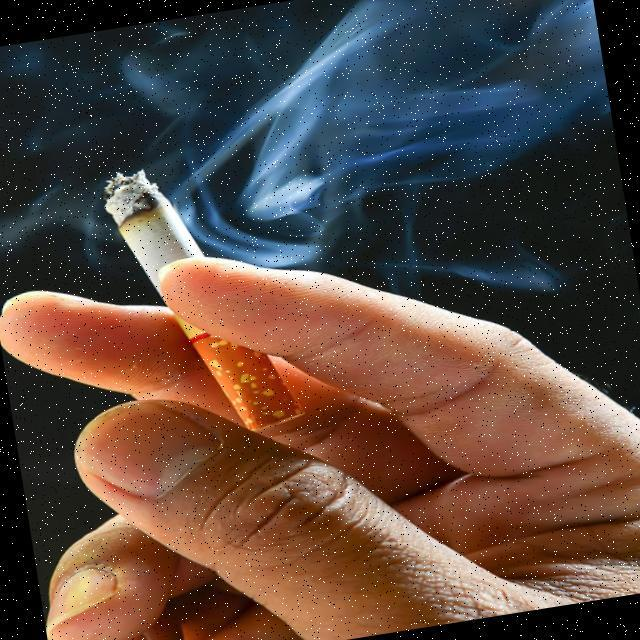cigarette: (78, 138, 328, 456)
